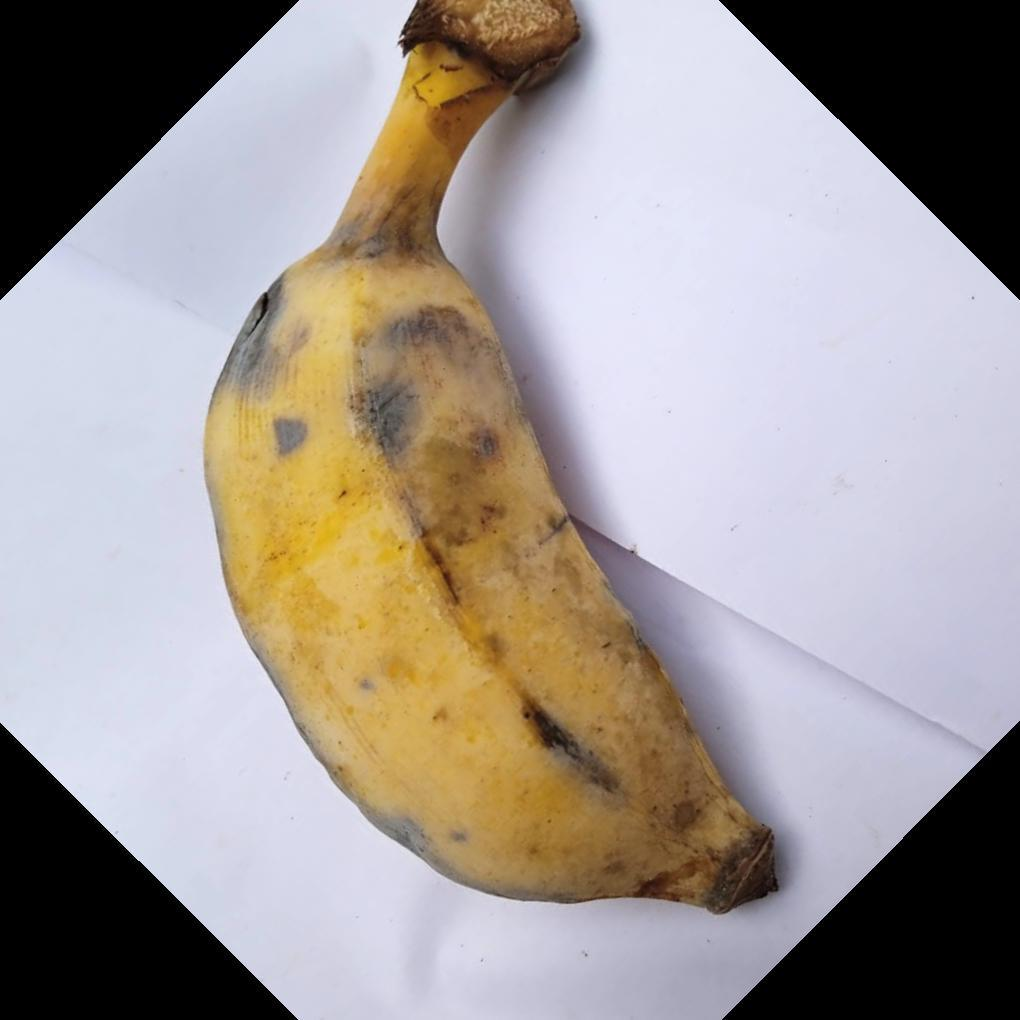Banana Ripe: (188, 31, 842, 1020)
